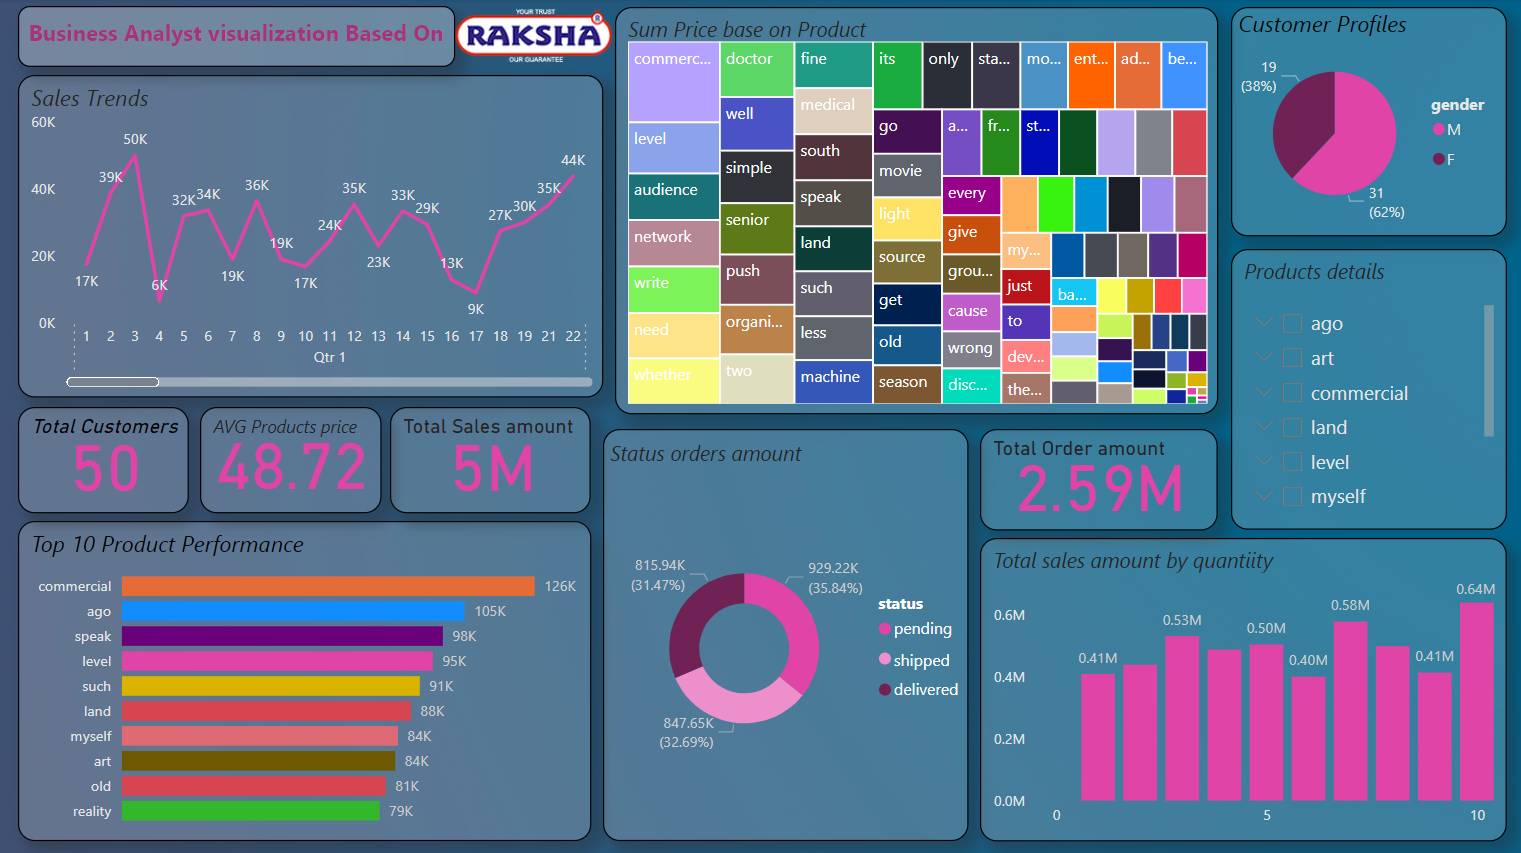

This screenshot's page, from the dashboard's own definition file:
{"tool":"powerbi","page":{"name":"Page 1","canvas":[1280,720],"ordinal":0},"visuals":[{"type":"lineChart","title":"Sales Trends","fields":{"Category":["raksha_pipes orders.order_date.Variation.Date Hierarchy.Quarter","raksha_pipes orders.order_date.Variation.Date Hierarchy.Day"],"Y":["Sum(raksha_pipes orders.total_amount)"]},"box":[17.9,63.5,490.1,270.1],"z":0},{"type":"barChart","title":"Top 10 Product Performance","fields":{"Category":["raksha_pipes products.product_name"],"Y":["Sum(raksha_pipes sales.sale_amount)"]},"box":[17.5,436.7,479.5,268.4],"z":1000},{"type":"pieChart","title":"Customer Profiles","fields":{"Category":["raksha_pipes customers.gender"],"Y":["CountNonNull(raksha_pipes customers.customer_id)"]},"box":[1032.9,6.8,230.5,191.6],"z":2000},{"type":"card","title":"Total Sales amount","fields":{"Values":["Sum(raksha_pipes sales.sale_amount)"]},"box":[328.8,341.4,168.3,89.5],"z":3000},{"type":"card","title":"Total Customers","fields":{"Values":["CountNonNull(raksha_pipes customers.customer_id)"]},"box":[17.5,341.4,143,89.5],"z":4000},{"type":"card","title":"Total Order amount","fields":{"Values":["Sum(raksha_pipes orders.total_amount)"]},"box":[822.9,359.9,199.4,84.6],"z":5000},{"type":"treemap","title":"Sum Price base on Product","fields":{"Group":["raksha_pipes products.product_name"],"Values":["Sum(raksha_pipes products.price)"]},"box":[517.4,6.8,504.8,341.4],"z":6000},{"type":"slicer","title":"Products details","fields":{"Values":["raksha_pipes products.product_name","raksha_pipes sales.quantity","raksha_pipes sales.sale_amount"]},"box":[1032.9,209.1,230.5,235.4],"z":7000},{"type":"donutChart","title":"Status orders amount","fields":{"Category":["raksha_pipes orders.status"],"Y":["Sum(raksha_pipes orders.total_amount)"]},"box":[507.7,359.9,306.4,345.3],"z":8000},{"type":"columnChart","title":"Total sales amount by quantiity","fields":{"Category":["raksha_pipes sales.quantity"],"Y":["Sum(raksha_pipes sales.sale_amount)"]},"box":[822.9,451.3,440.6,253.9],"z":9000},{"type":"card","title":"AVG Products price","fields":{"Values":["Avg(raksha_pipes products.price)"]},"box":[170.2,341.4,151.7,89.5],"z":10000},{"type":"textbox","box":[17.6,5.9,376.7,51.1],"z":11000},{"type":"image","box":[370.9,3.3,157.4,56.9],"z":12000}]}

Visuals, with their boxes in screenshot pixels (x1, y1, x2, y2), scaled from the page's 1280x720 canvas onto the 1521x853 screenshot:
"Sales Trends" lineChart: locate(21, 75, 604, 395)
"Top 10 Product Performance" barChart: locate(21, 517, 591, 835)
"Customer Profiles" pieChart: locate(1227, 8, 1501, 235)
"Total Sales amount" card: locate(391, 404, 591, 510)
"Total Customers" card: locate(21, 404, 191, 510)
"Total Order amount" card: locate(978, 426, 1215, 527)
"Sum Price base on Product" treemap: locate(615, 8, 1215, 413)
"Products details" slicer: locate(1227, 248, 1501, 527)
"Status orders amount" donutChart: locate(603, 426, 967, 835)
"Total sales amount by quantiity" columnChart: locate(978, 535, 1501, 835)
"AVG Products price" card: locate(202, 404, 383, 510)
textbox: locate(21, 7, 469, 68)
image: locate(441, 4, 628, 71)
